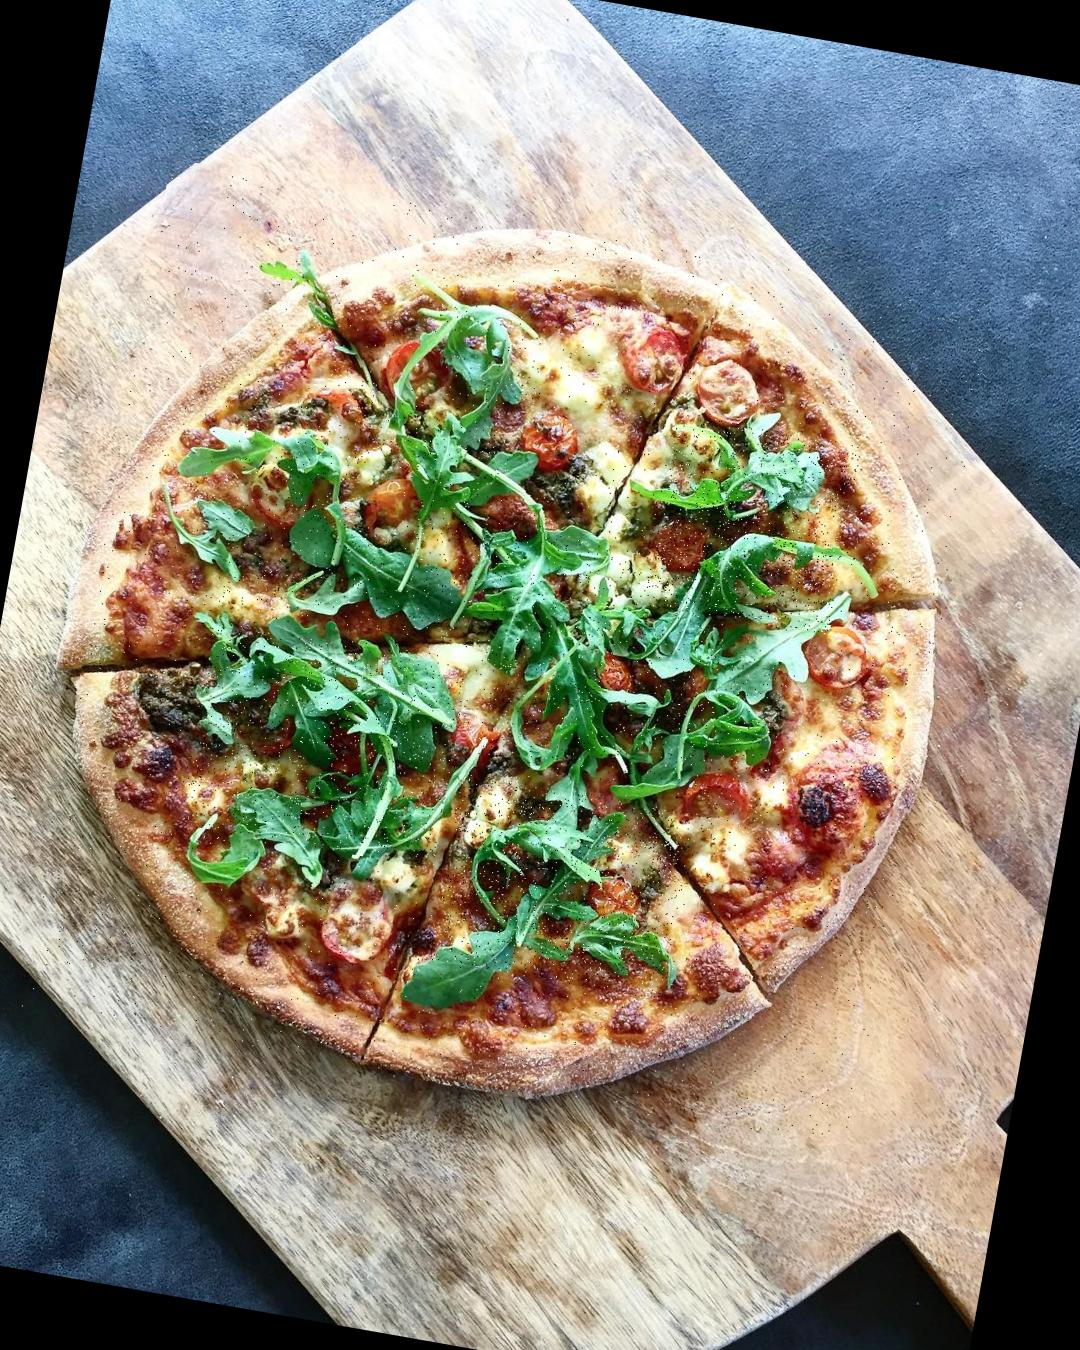Basil: (176, 622, 468, 868), (463, 526, 736, 787), (216, 413, 498, 645), (430, 773, 696, 1001), (328, 336, 548, 586), (646, 413, 863, 637), (677, 649, 790, 789)
Pizza: (22, 160, 998, 1154)
Tomatoes: (600, 310, 703, 398), (670, 773, 778, 855), (310, 878, 399, 975), (376, 334, 451, 415), (348, 472, 423, 541), (510, 406, 579, 482), (586, 655, 654, 702)
